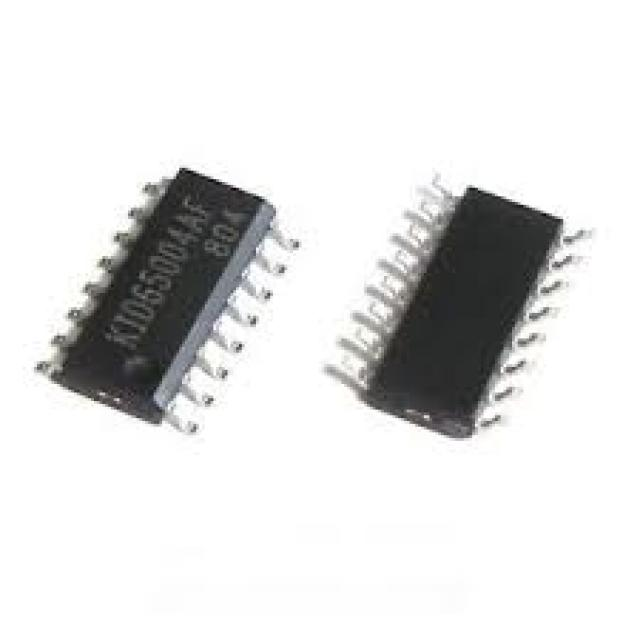IC: (37, 166, 294, 434), (356, 185, 570, 439)
